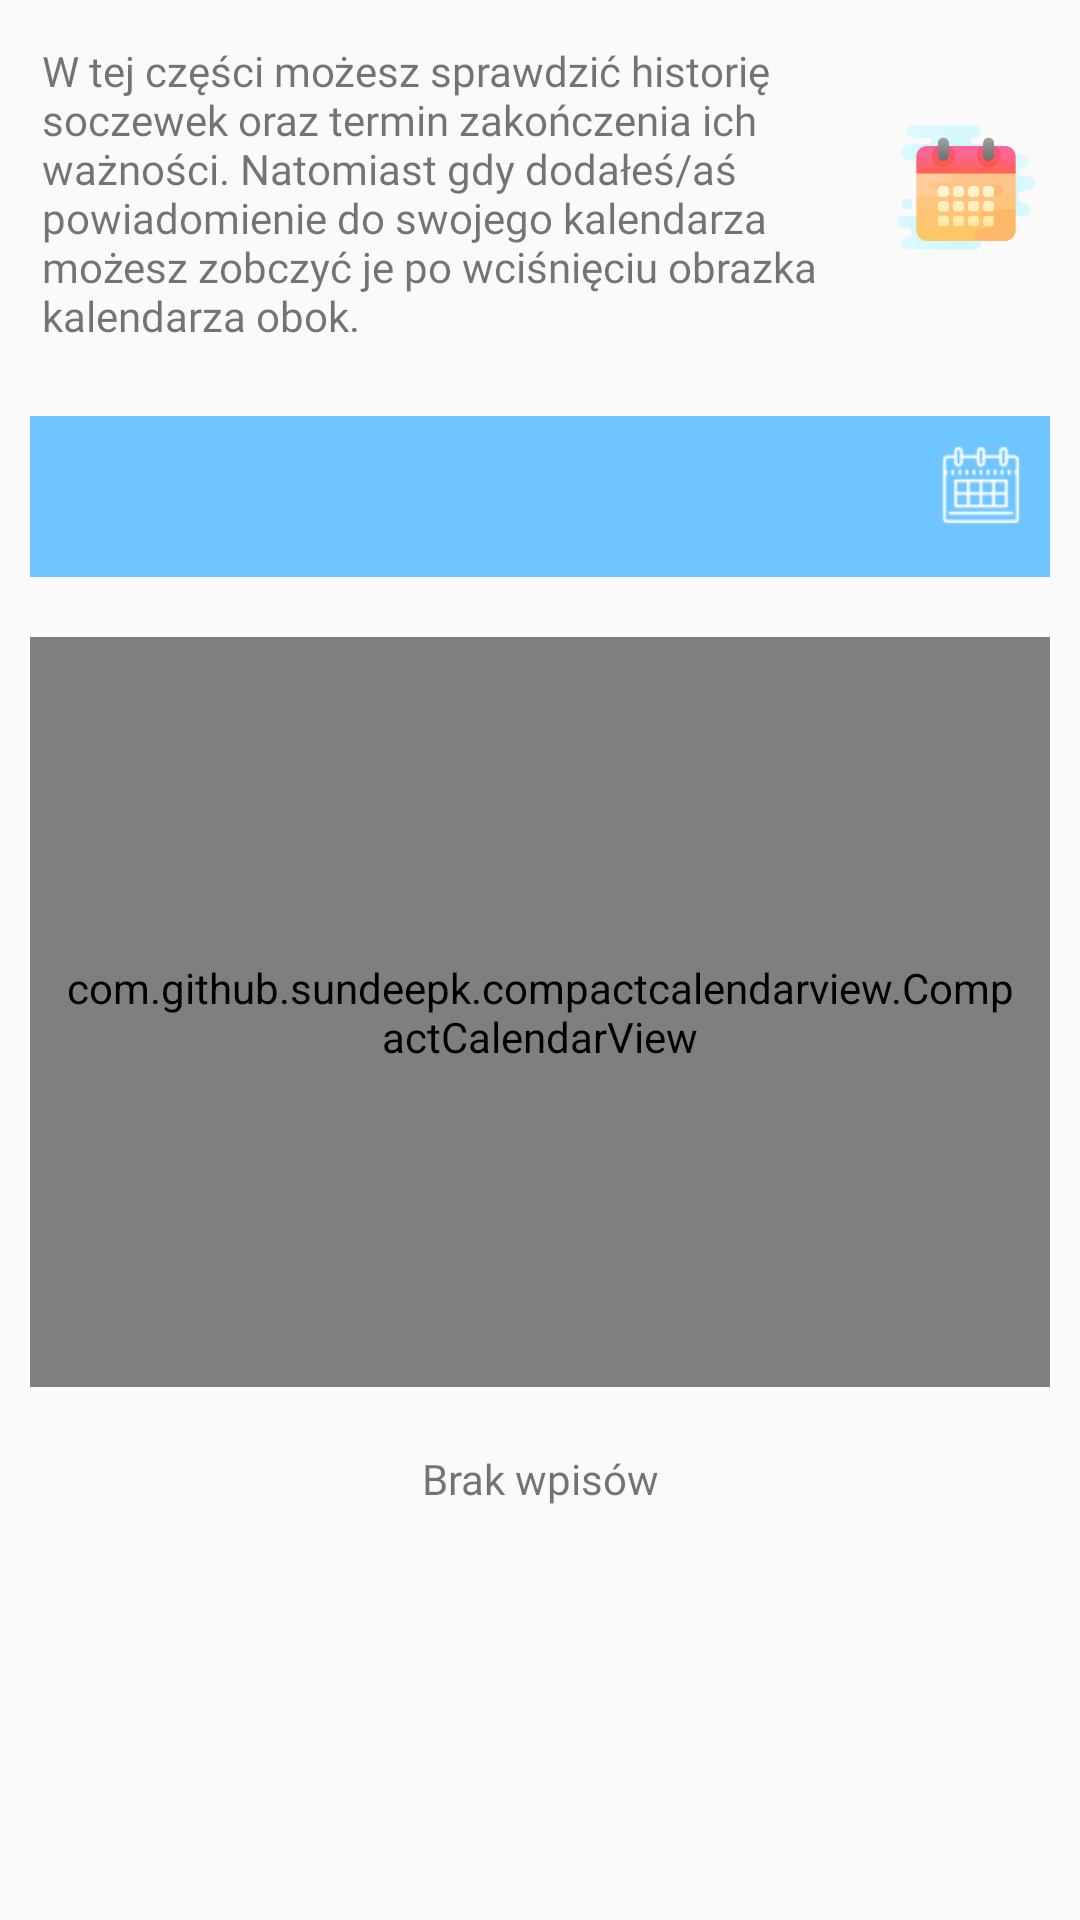

Icon bounding boxes for this 1080*1920 phone screenshot, format (x1=x1, y1=y1, x2=x2, y2=y2):
calendar: (x1=897, y1=125, x2=1035, y2=249)
date: (x1=942, y1=447, x2=1020, y2=524)
